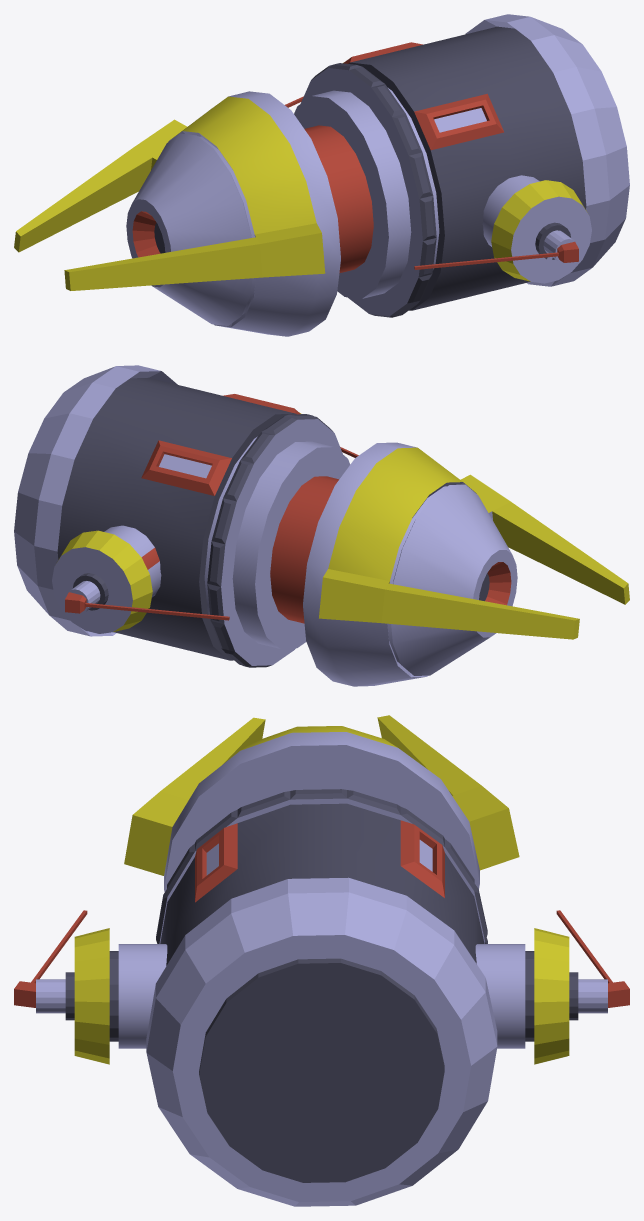
File: weapon_lasercanon.FBX
3 views of the same model, one above another, from view 1: azimuth 30°, elevation 25°; view 2: azimuth 150°, elevation 25°; view 3: azimuth 270°, elevation 25° (orthographic). The views are drawn at different scales.
Visible parts, largest first — view 1: Cylinder002; view 2: Cylinder002; view 3: Cylinder002.
Boxes of the visible parts, x1,y1,x2,y2 form: Cylinder002: (14, 14, 629, 336); Cylinder002: (14, 365, 629, 686); Cylinder002: (14, 715, 629, 1206).
Size of the model in its own units: 150 by 65.92 by 117.
